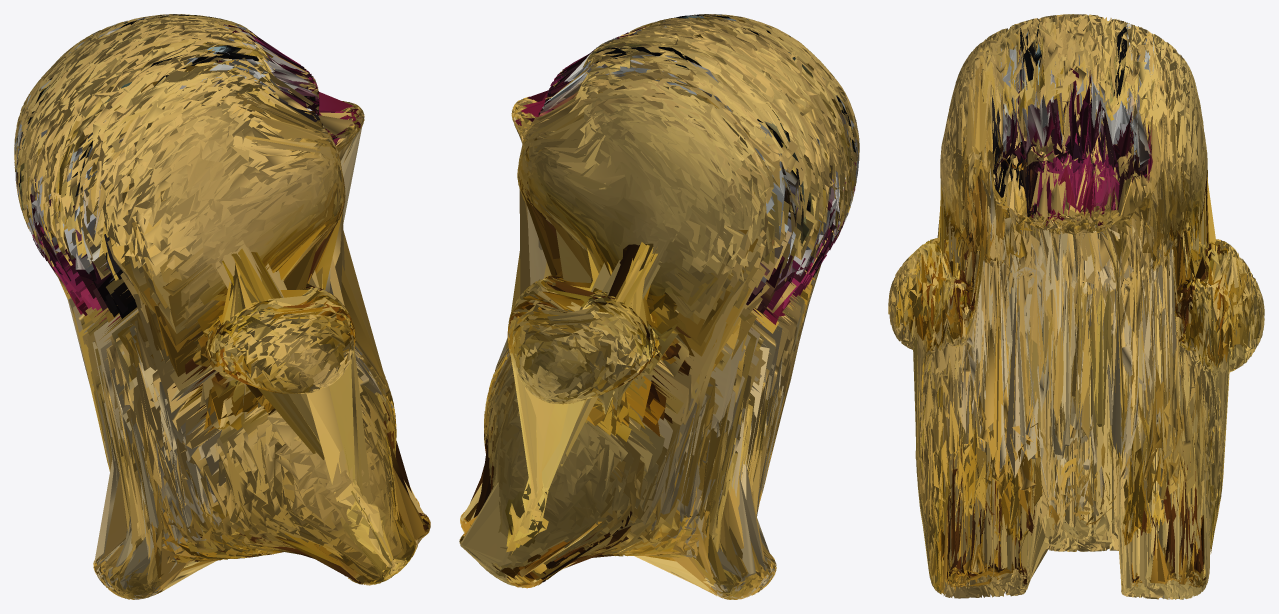
The picture shows the model from 3 angles, left to right: view 1: azimuth 30°, elevation 25°; view 2: azimuth 150°, elevation 25°; view 3: azimuth 270°, elevation 25°; orthographic projection. The views are drawn at different scales.
Visible parts, largest first — view 1: texture_pbr_v130; view 2: texture_pbr_v130; view 3: texture_pbr_v130.
Part boxes in pixels (<box>): texture_pbr_v130: <box>14,14,430,599</box>; texture_pbr_v130: <box>459,14,859,599</box>; texture_pbr_v130: <box>888,14,1264,599</box>.
Size of the model in its own units: 0.6927 by 1.09 by 0.7087.
